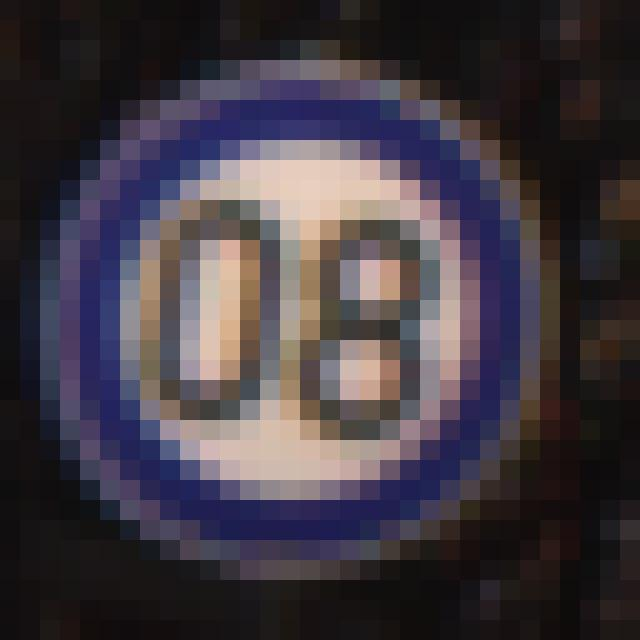SPEED-LIMIT-80: (43, 49, 547, 578)
